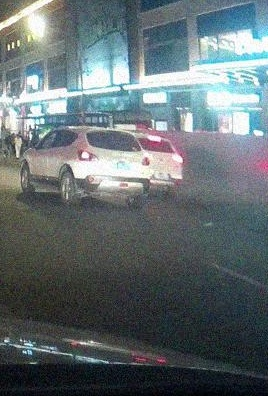L_light: (79, 150, 95, 161)
R_light: (141, 157, 151, 165)
T_light: (109, 131, 118, 134)
night-left: (76, 128, 152, 204)
